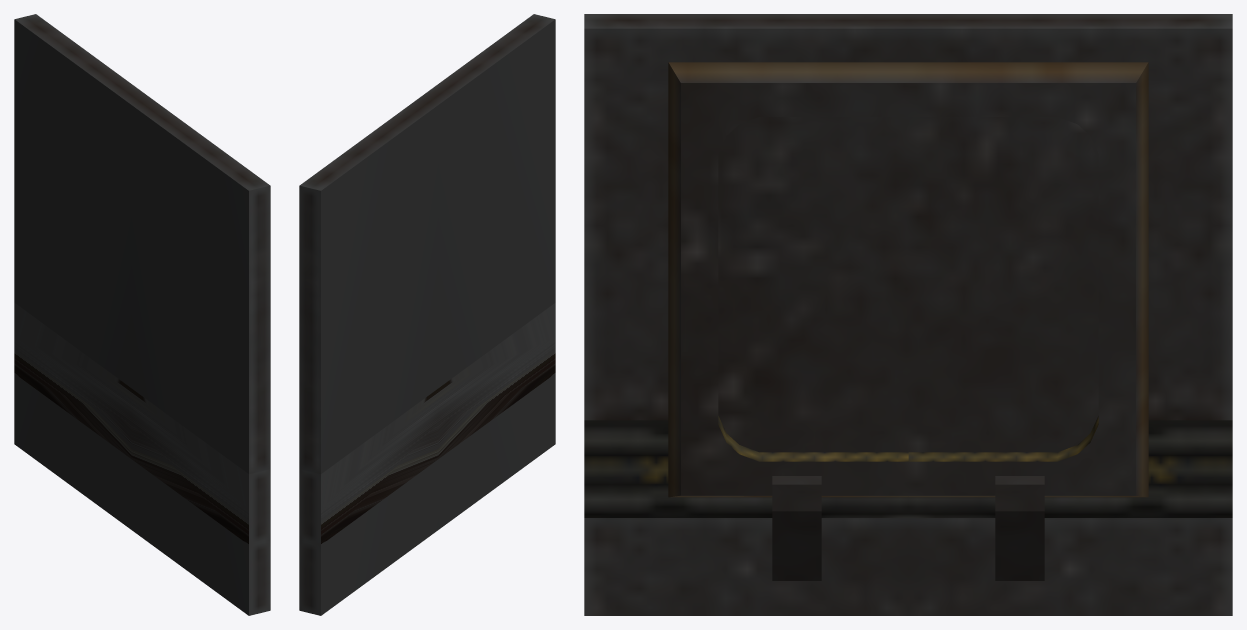
The model's file is Wall_top_2.FBX.
3 views of the same model, side by side, from view 1: azimuth 30°, elevation 25°; view 2: azimuth 150°, elevation 25°; view 3: azimuth 270°, elevation 25° (orthographic). The views are drawn at different scales.
Parts seen in each view (by area): view 1: Wall_top_2; view 2: Wall_top_2; view 3: Wall_top_2.
Boxes of the visible parts, bbox=[...] form: Wall_top_2: bbox=[14, 14, 270, 615]; Wall_top_2: bbox=[299, 14, 555, 615]; Wall_top_2: bbox=[584, 14, 1232, 615].
Size of the model in its own units: 37.21 by 300 by 300.
